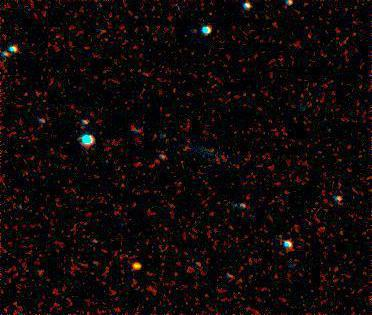star: (121, 251, 151, 281)
